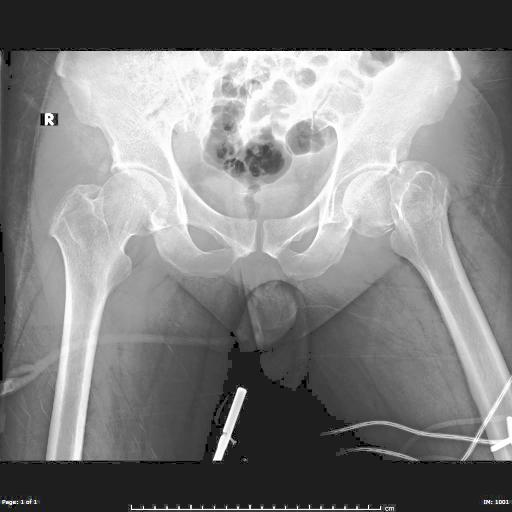neck: (386, 160, 474, 306), (343, 171, 410, 237)
normal: (48, 169, 167, 349)
